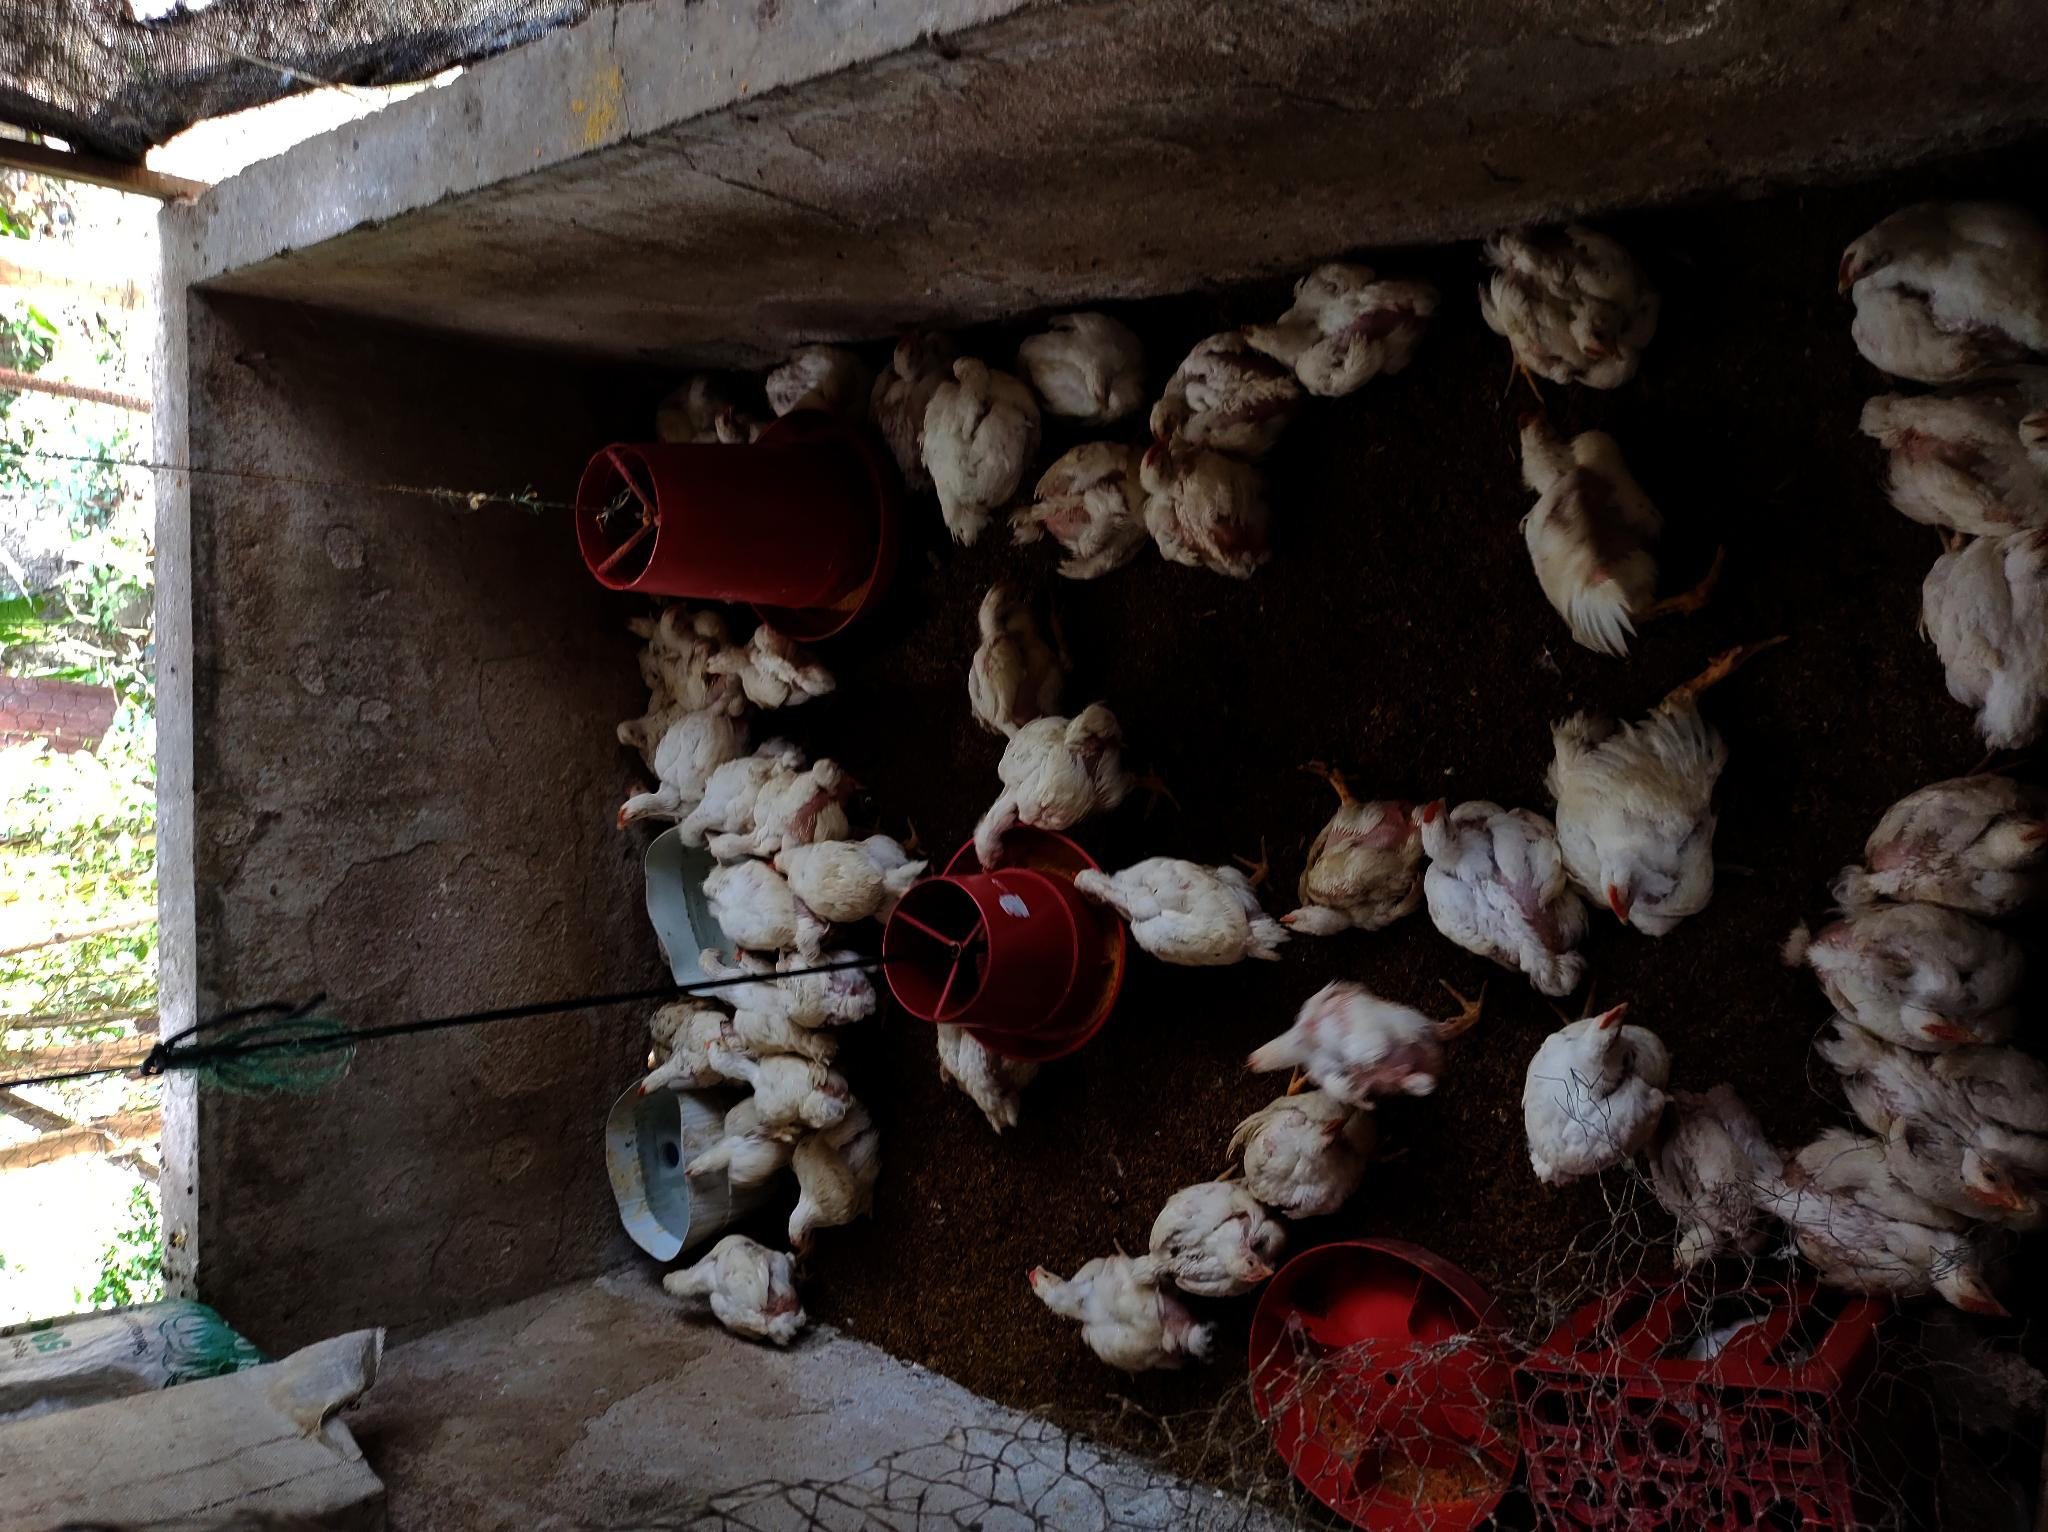Pollos: (1779, 1118, 2017, 1323), (1836, 1011, 2048, 1212), (1511, 406, 1678, 657), (1831, 188, 2048, 381), (1554, 718, 1725, 940), (1416, 789, 1586, 993), (1792, 904, 2030, 1048), (1474, 222, 1667, 397), (1832, 766, 2048, 909), (1916, 529, 2048, 760), (1527, 993, 1675, 1183), (1857, 389, 2048, 534), (967, 700, 1128, 871), (1231, 266, 1433, 393), (1236, 974, 1435, 1102), (1071, 853, 1287, 970), (1659, 1078, 1787, 1271), (1018, 1254, 1211, 1369), (1273, 800, 1429, 938), (919, 356, 1031, 546), (1139, 443, 1282, 584), (1022, 441, 1160, 579), (701, 1035, 874, 1146), (1131, 1176, 1282, 1300), (1145, 330, 1297, 447), (655, 1231, 808, 1345), (965, 571, 1073, 729), (1224, 1086, 1356, 1213), (611, 719, 740, 842), (706, 763, 856, 863), (668, 747, 792, 855), (925, 1015, 1034, 1135), (1017, 317, 1133, 428), (787, 1126, 878, 1260), (693, 863, 822, 954), (761, 846, 915, 922), (652, 599, 751, 710), (629, 1015, 740, 1114), (698, 632, 840, 703), (693, 943, 795, 1040), (681, 1109, 787, 1191), (870, 341, 936, 468), (603, 694, 697, 772), (759, 344, 854, 418), (780, 948, 869, 1023), (663, 377, 714, 433), (706, 394, 759, 444)
